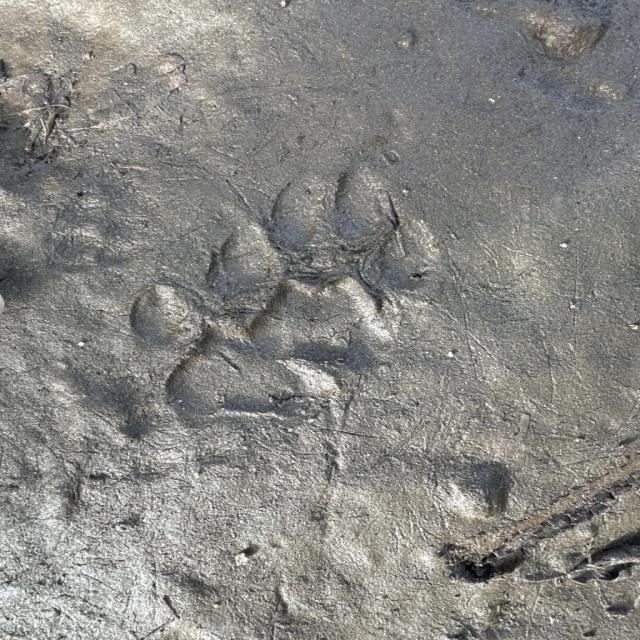felid: (242, 169, 428, 355), (132, 235, 305, 423)
